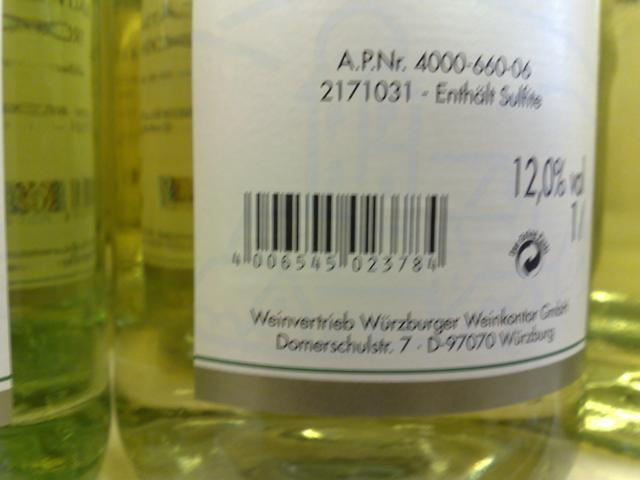Barcode: (223, 179, 462, 282)
